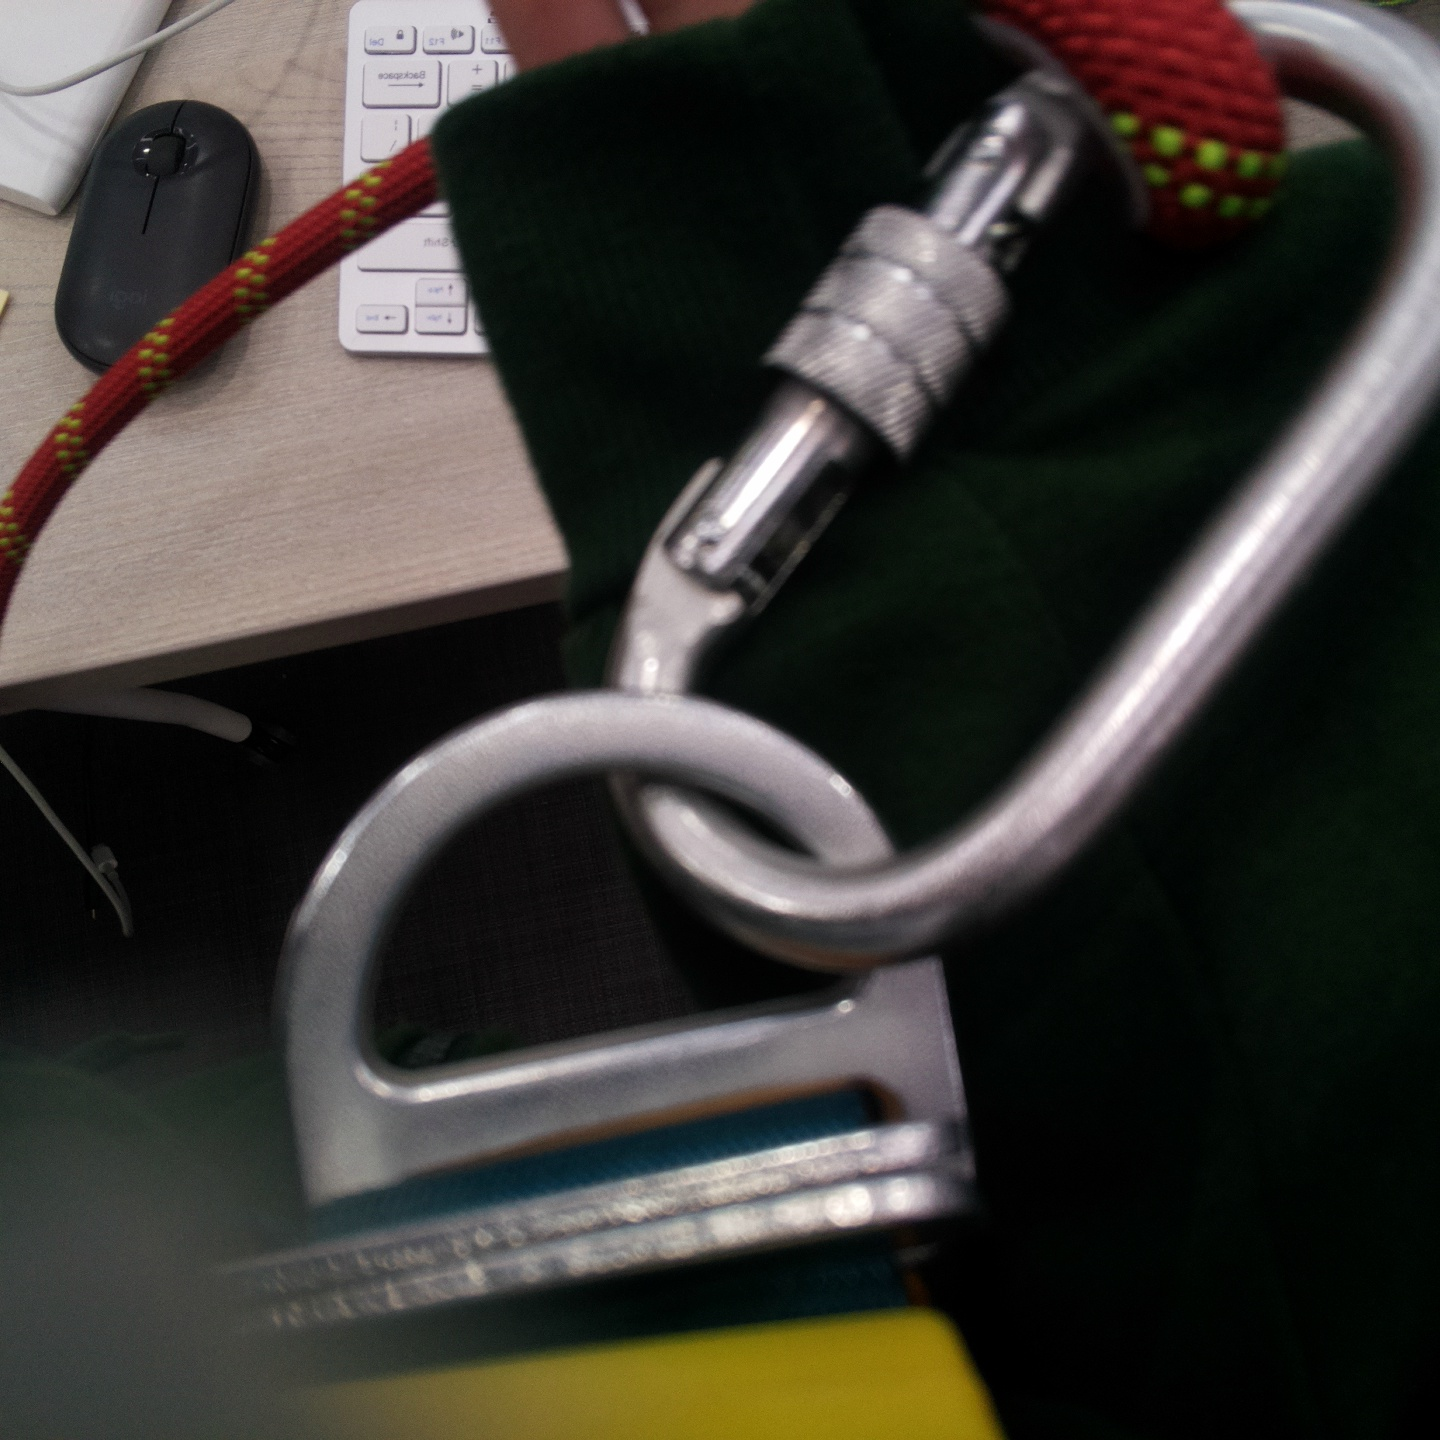SUCCESS: (793, 222, 1344, 742)
